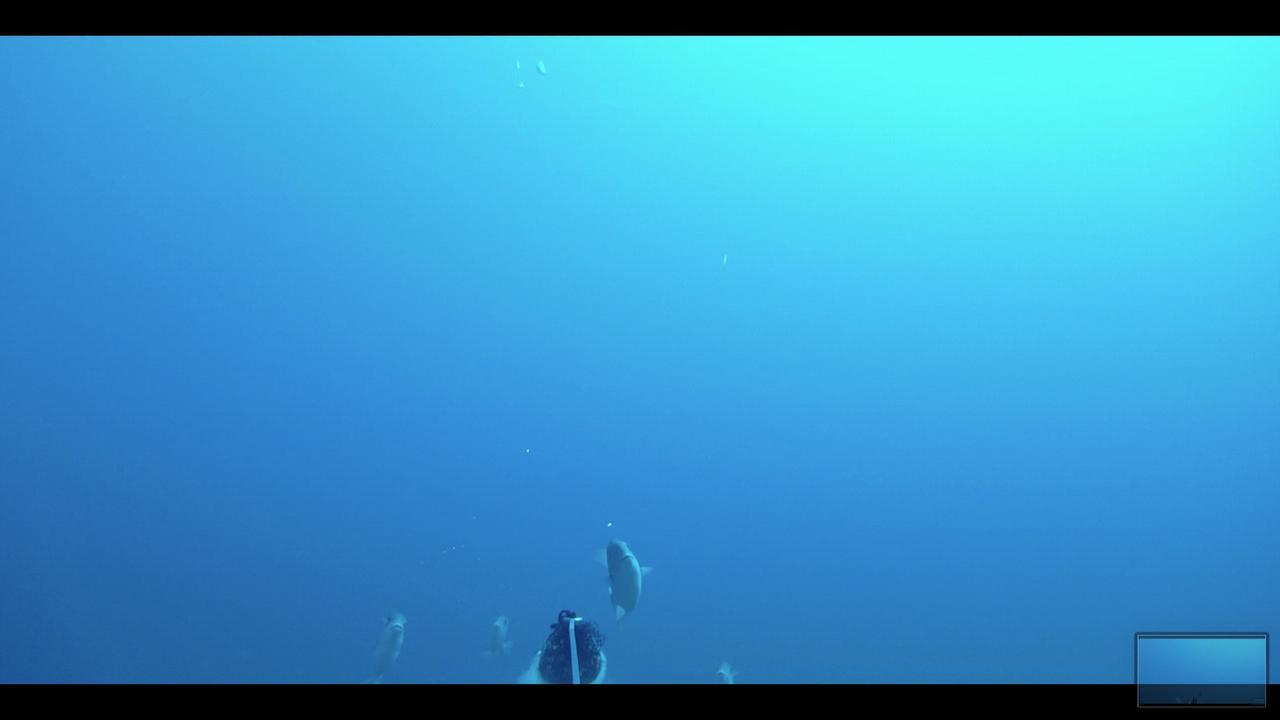balistes: (587, 531, 658, 621), (347, 601, 421, 681)
